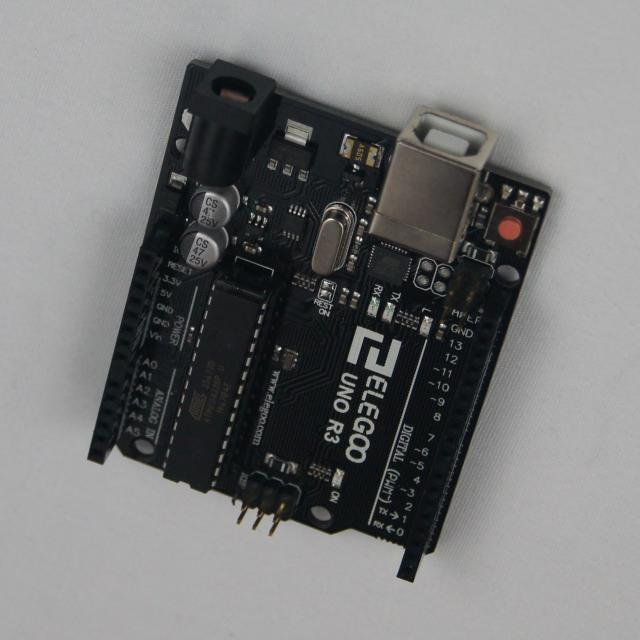Arduino Uno -Black-: (89, 61, 550, 582)
